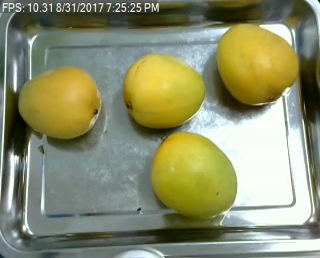Mango: (149, 132, 237, 218), (219, 25, 298, 106), (17, 67, 101, 139), (123, 54, 204, 127)
